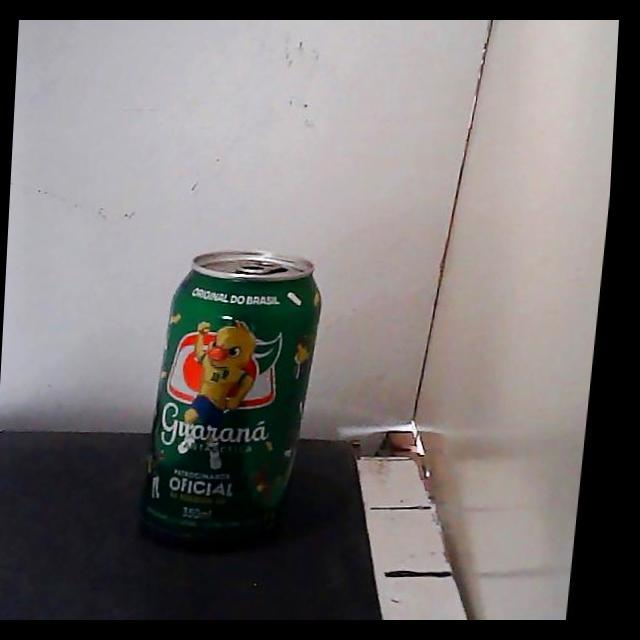metal: (141, 251, 321, 542)
